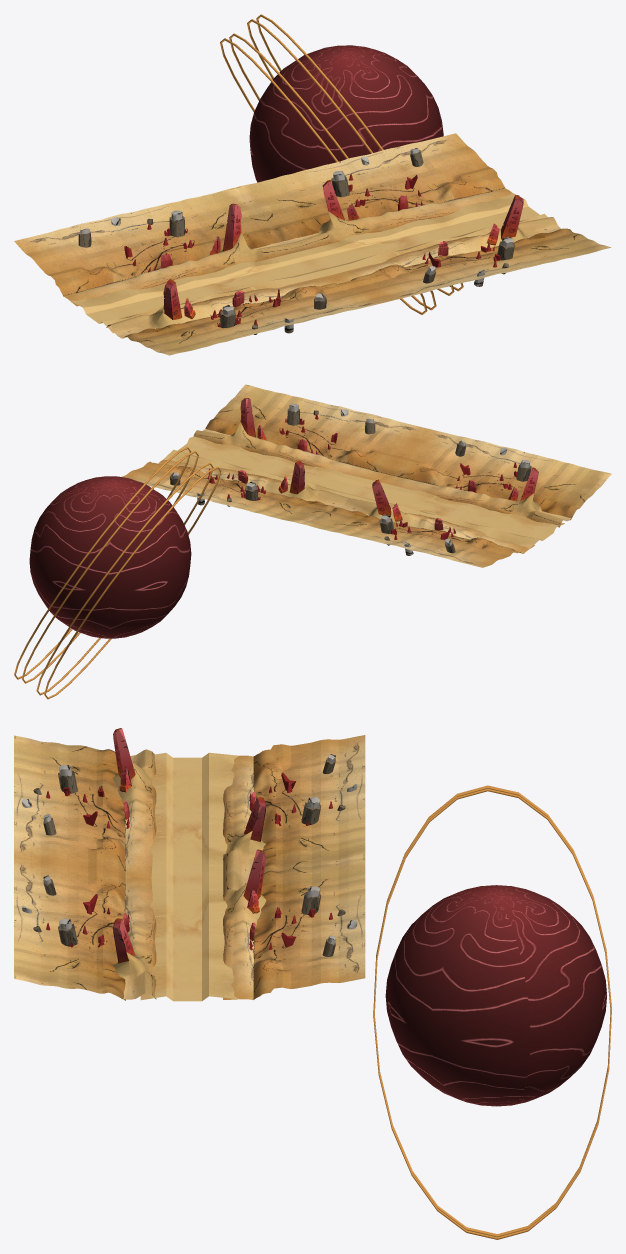
File: Meyrin environment-30.fbx
3 renders of one model, top to bottom at view 1: azimuth 30°, elevation 25°; view 2: azimuth 150°, elevation 25°; view 3: azimuth 270°, elevation 25°, orthographic. The views are drawn at different scales.
Visible parts, largest first — view 1: pSphere1, polySurface307, polySurface360, polySurface341, polySurface323, polySurface288, polySurface376, polySurface361, polySurface308, polySurface342, polySurface289, ground:Torus003 (+6 smaller); view 2: pSphere1, polySurface341, polySurface288, polySurface360, polySurface376, polySurface323, polySurface307, polySurface342, polySurface289, polySurface361, polySurface308, ground:Torus003 (+4 smaller); view 3: pSphere1, polySurface288, polySurface360, polySurface307, polySurface341, polySurface376, polySurface323, polySurface342, polySurface289, polySurface308, polySurface361, Torus004 (+2 smaller).
Part boxes in pixels (x1,y1,x2,y2): pSphere1: [249, 45, 443, 182]; polySurface307: [235, 133, 505, 241]; polySurface360: [14, 187, 282, 296]; polySurface341: [123, 280, 389, 355]; polySurface323: [298, 192, 547, 275]; polySurface288: [347, 228, 611, 301]; polySurface376: [69, 252, 328, 333]; polySurface361: [63, 232, 298, 306]; polySurface308: [284, 188, 511, 251]; polySurface342: [106, 275, 339, 338]; polySurface289: [330, 217, 560, 283]; ground:Torus003: [220, 38, 427, 314]; pSphere1: [29, 476, 191, 638]; polySurface341: [388, 429, 611, 520]; polySurface288: [205, 384, 428, 474]; polySurface360: [300, 507, 522, 567]; polySurface376: [354, 482, 564, 549]; polySurface323: [163, 436, 374, 498]; polySurface307: [121, 461, 335, 523]; polySurface342: [379, 474, 570, 527]; polySurface289: [193, 422, 387, 480]; polySurface361: [342, 498, 534, 553]; polySurface308: [158, 460, 349, 507]; ground:Torus003: [44, 466, 221, 699]; pSphere1: [385, 885, 606, 1106]; polySurface288: [14, 856, 125, 1000]; polySurface360: [253, 735, 365, 872]; polySurface307: [253, 857, 365, 999]; polySurface341: [14, 735, 125, 877]; polySurface376: [150, 752, 239, 879]; polySurface323: [140, 877, 238, 1001]; polySurface342: [113, 749, 156, 877]; polySurface289: [113, 877, 156, 999]; polySurface308: [223, 871, 266, 999]; polySurface361: [223, 755, 265, 877]; Torus004: [373, 788, 611, 1239].
Bounding box in the file's own units: 426 × 269 × 396.
